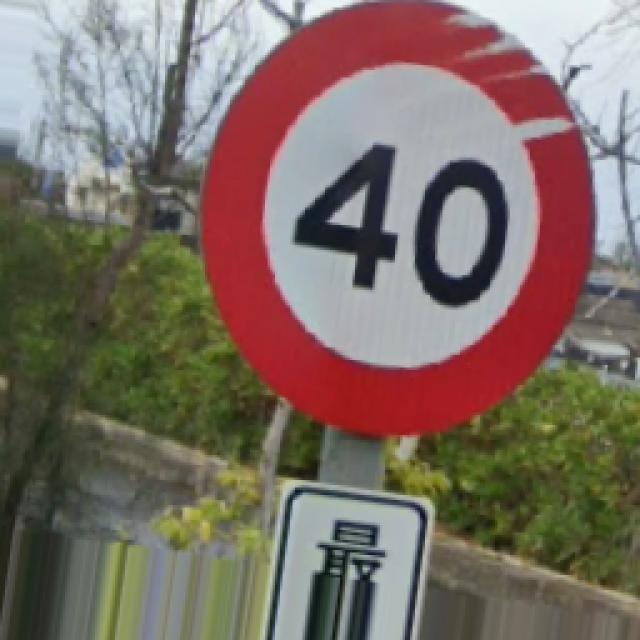Speed Limit -40-: (205, 2, 590, 432)
